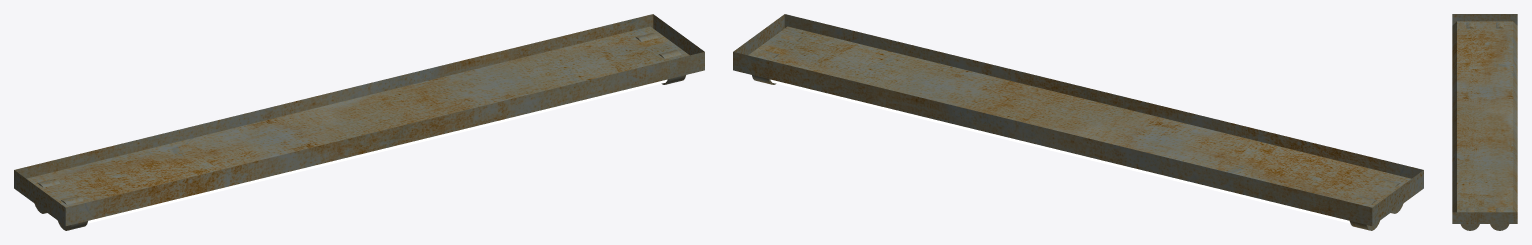
The model's file is lampada.glb.
3 renders of one model, left to right at view 1: azimuth 30°, elevation 25°; view 2: azimuth 150°, elevation 25°; view 3: azimuth 270°, elevation 25°, orthographic. The views are drawn at different scales.
Visible parts, largest first — view 1: Cylinder.019; view 2: Cylinder.019; view 3: Cylinder.019.
Boxes of the visible parts, x1,y1,x2,y2 form: Cylinder.019: (14,14,704,230); Cylinder.019: (733,14,1423,230); Cylinder.019: (1452,14,1517,230).
Size of the model in its own units: 2 by 0.1059 by 0.2792.
Materials: 2 (1 with a texture image).
